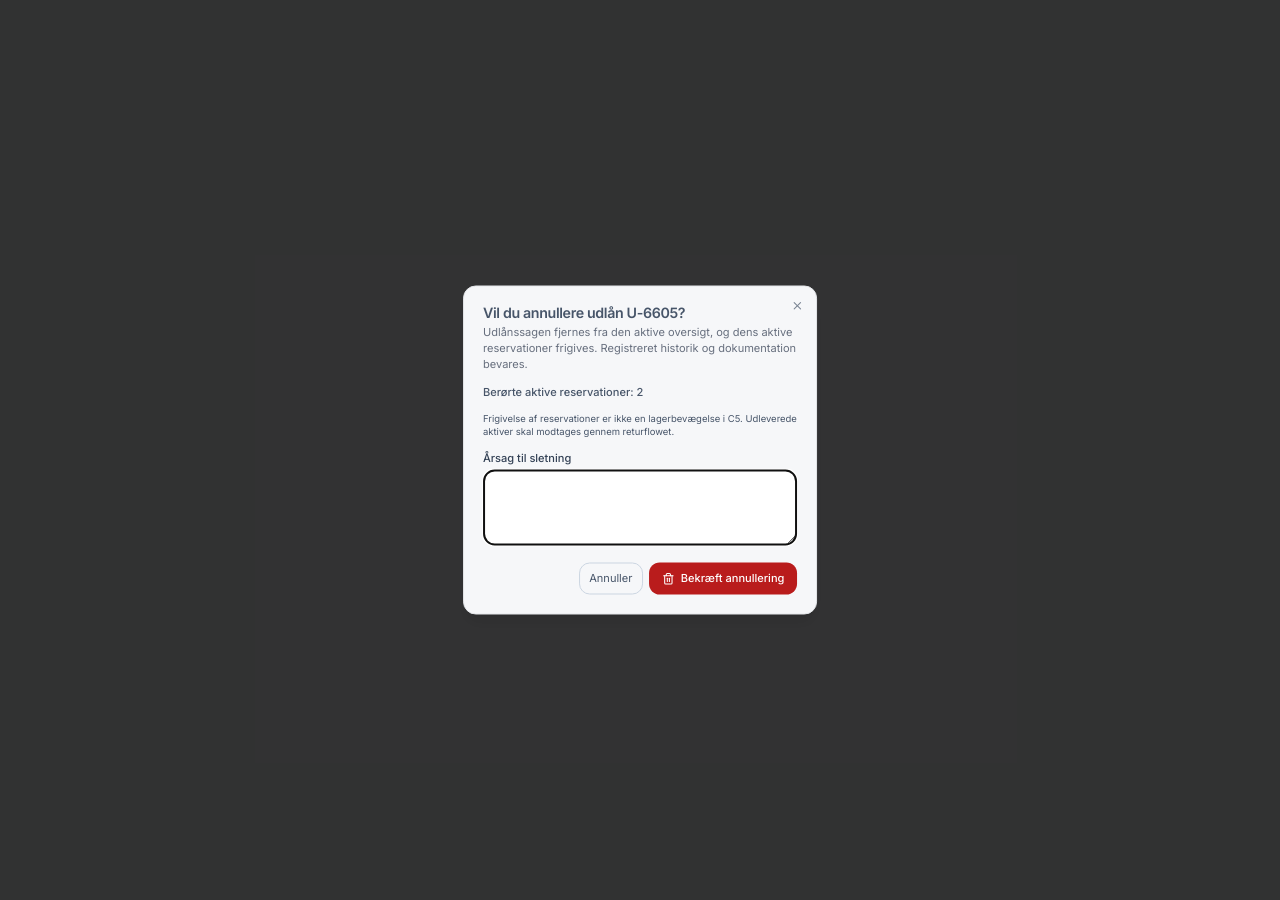
Test: explicit Backend cancellation confirmation › retries an uncertain result with exactly the same request key, never changed input
Later steps or results of the test are not shown.
Expected: the text "Berørte aktive reservationer: 2" is shown, [483,384,643,398]
Type "QA mistake" into the text box. click: (640, 508)
box: [483,470,797,546]
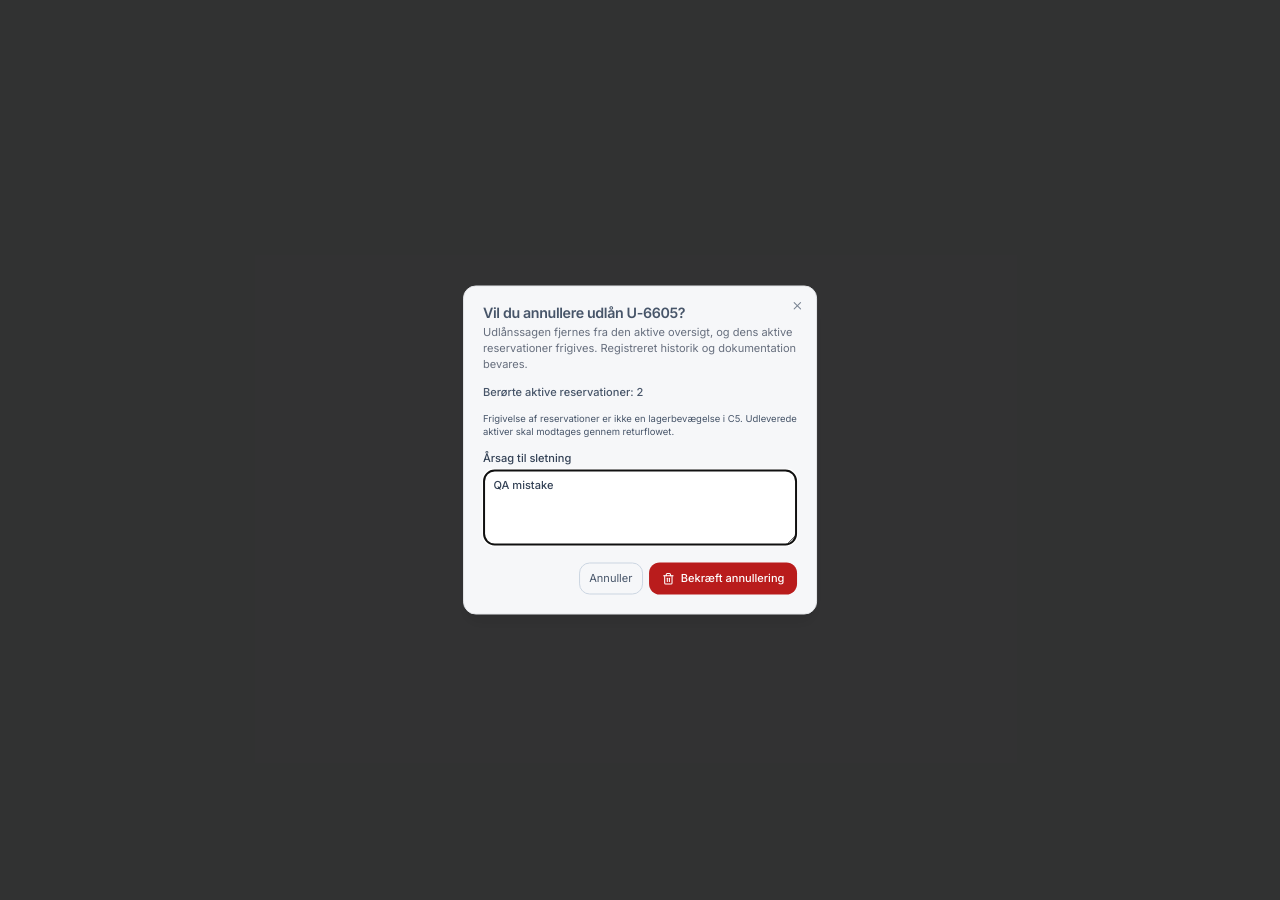
Click the button "Bekræft annullering". click: (723, 579)
box: [649,563,797,595]
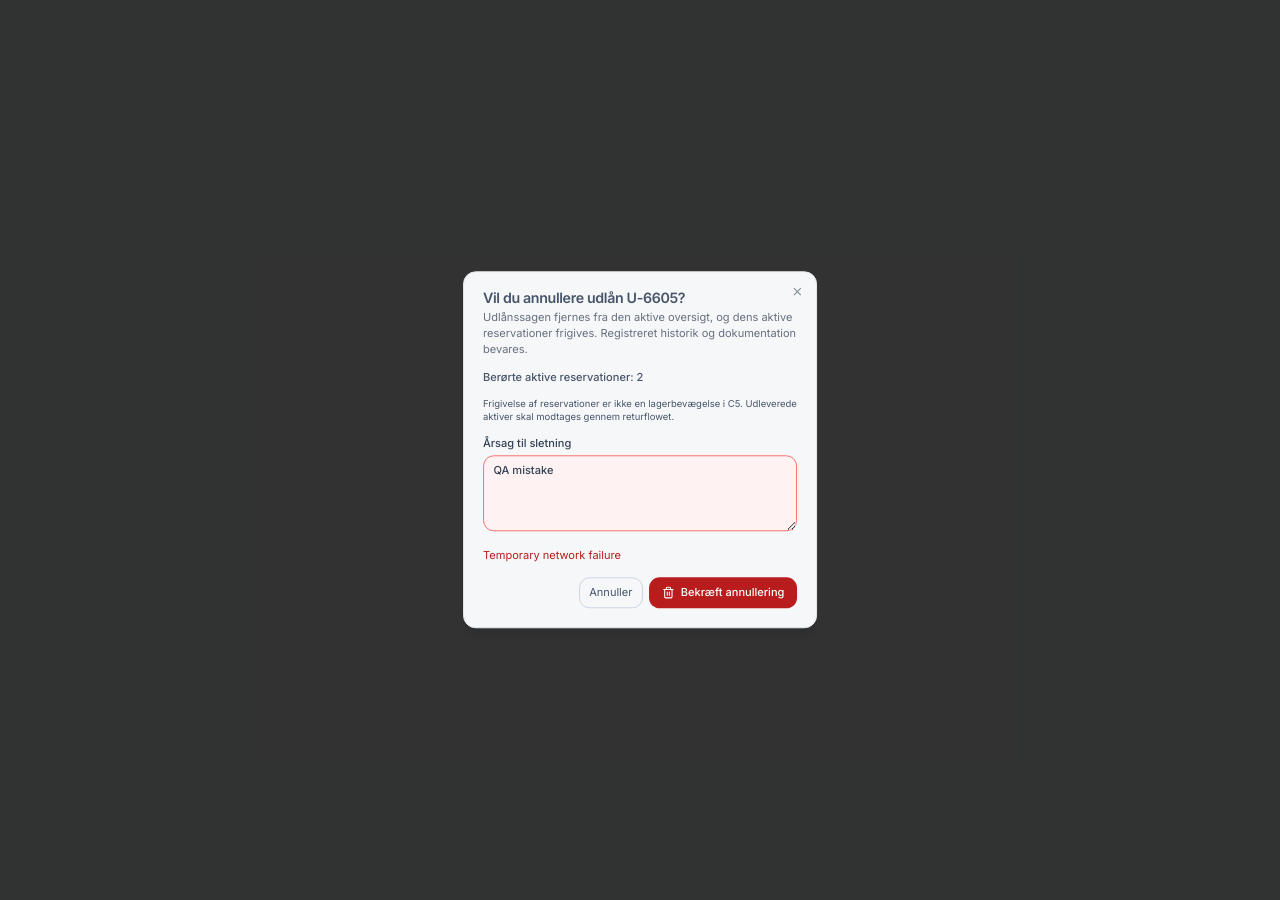
Result: the text "Temporary network failure" is shown at [483,549,621,563]
